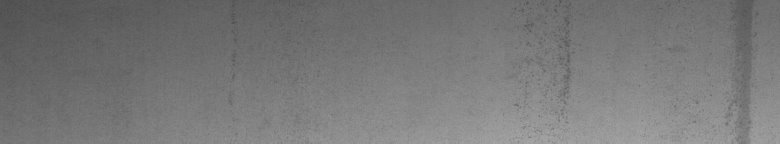ib: (668, 48, 751, 128)
